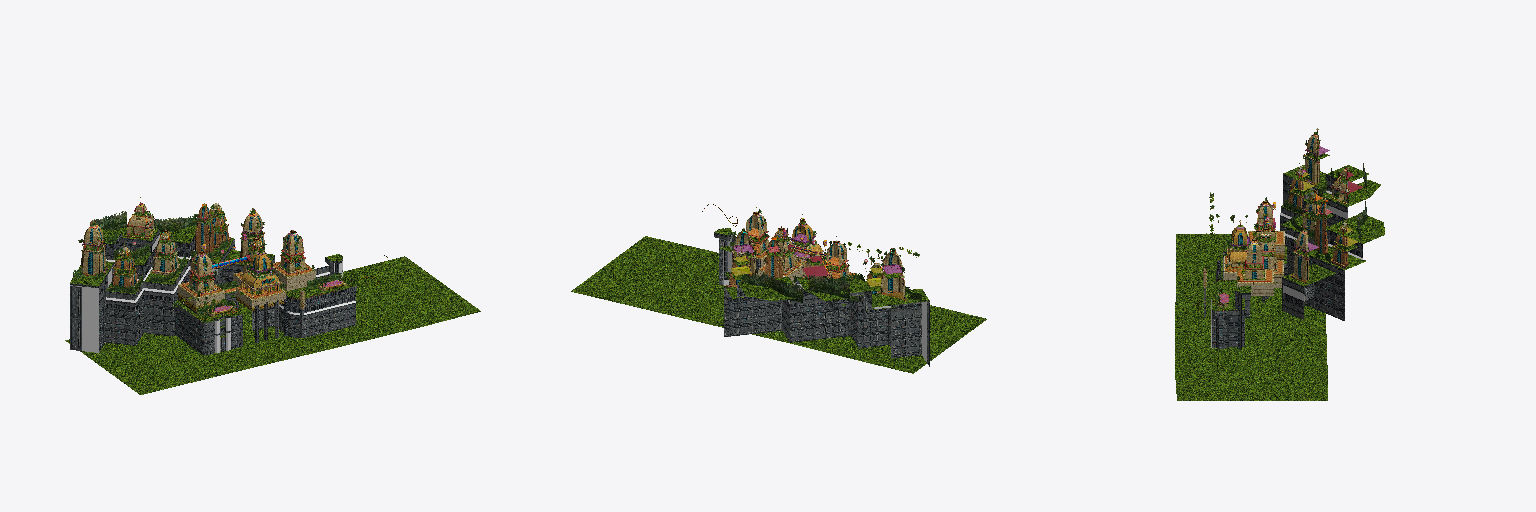
3 renders of one model, left to right at view 1: azimuth 30°, elevation 25°; view 2: azimuth 150°, elevation 25°; view 3: azimuth 270°, elevation 25°, orthographic.
Parts seen in each view (by area): view 1: polygon221, polygon236, polygon230, polygon225, polygon240, polygon241, polygon2, polygon237, polygon239, polygon222; view 2: polygon221, polygon236, polygon241, polygon2, polygon237; view 3: polygon221, polygon241, polygon236, polygon237, polygon230, polygon239, polygon2.
Boxes of the visible parts, x1=… form: polygon221: x1=65, y1=256, x2=480, y2=394; polygon236: x1=70, y1=232, x2=242, y2=352; polygon230: x1=252, y1=285, x2=356, y2=337; polygon225: x1=175, y1=307, x2=242, y2=354; polygon240: x1=70, y1=235, x2=217, y2=352; polygon241: x1=70, y1=218, x2=274, y2=293; polygon2: x1=90, y1=211, x2=215, y2=292; polygon237: x1=70, y1=228, x2=274, y2=312; polygon239: x1=105, y1=233, x2=232, y2=310; polygon222: x1=255, y1=298, x2=287, y2=342; polygon221: x1=571, y1=236, x2=986, y2=373; polygon236: x1=724, y1=279, x2=929, y2=366; polygon241: x1=725, y1=272, x2=929, y2=310; polygon2: x1=749, y1=274, x2=858, y2=302; polygon237: x1=724, y1=273, x2=929, y2=341; polygon221: x1=1175, y1=234, x2=1327, y2=400; polygon241: x1=1281, y1=165, x2=1384, y2=286; polygon236: x1=1280, y1=174, x2=1362, y2=320; polygon237: x1=1280, y1=174, x2=1347, y2=319; polygon230: x1=1212, y1=298, x2=1249, y2=348; polygon239: x1=1280, y1=175, x2=1362, y2=306; polygon2: x1=1284, y1=163, x2=1366, y2=249.
Bounding box in the file's own units: 6477 × 2193 × 3387.
67 materials, 64 textured.